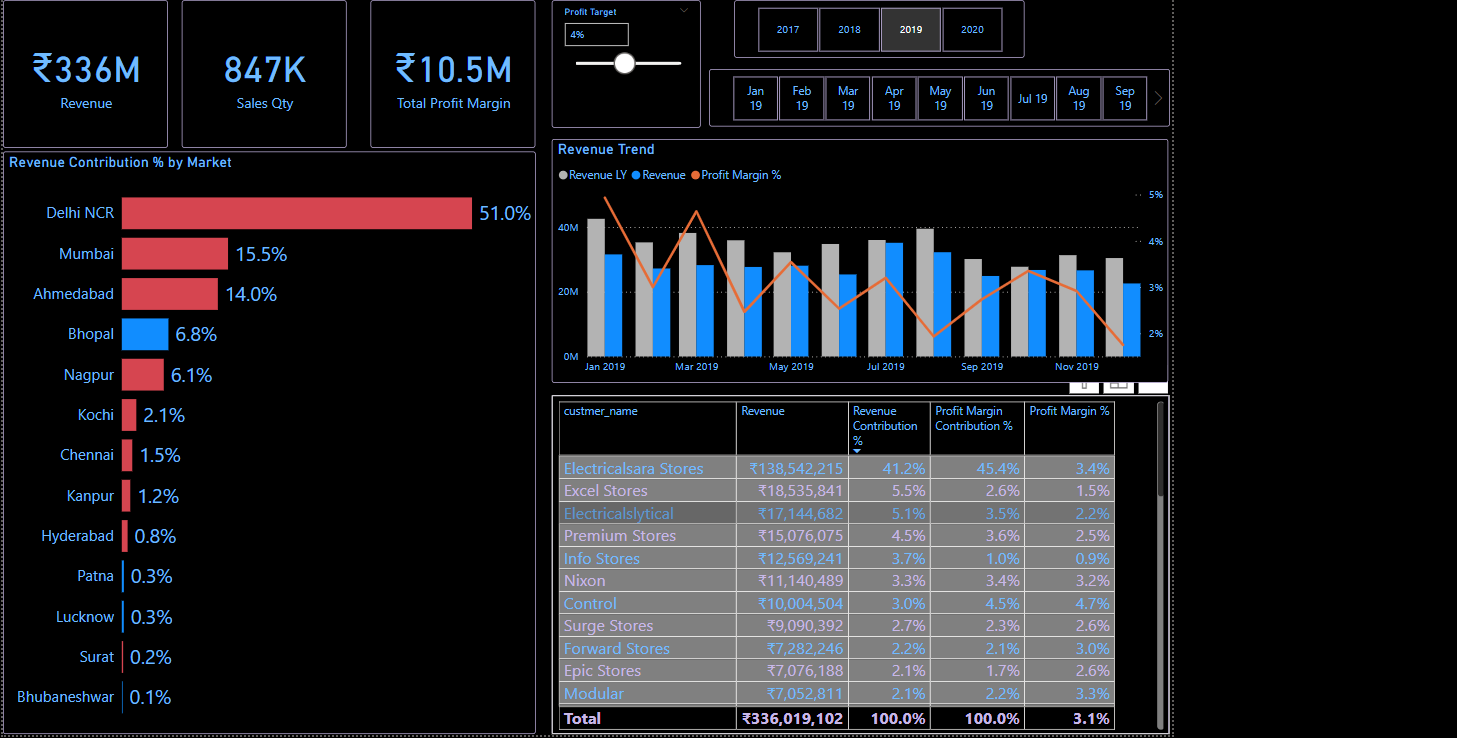

The dashboard page shown, as its layout file describes it:
{"tool":"powerbi","page":{"name":"Performance Insights","canvas":[1350,850],"ordinal":2},"visuals":[{"type":"card","fields":{"Values":["BaseMeasures (2).Revenue"]},"box":[0,2,190,170],"z":0},{"type":"card","fields":{"Values":["BaseMeasures (2).Sales Qty"]},"box":[207,2,190,170],"z":1000},{"type":"slicer","fields":{"Values":["sales date.year"]},"box":[844.4,2,335.5,66.1],"z":2000},{"type":"slicer","fields":{"Values":["sales date.cy_date"]},"box":[815,81,531.6,66.1],"z":3000},{"type":"tableEx","title":"Top 5 Customers","fields":{"Values":["sales customers.custmer_name","BaseMeasures (2).Revenue","BaseMeasures (2).Revenue Contribution %","BaseMeasures (2).Profit Margin Contribution %","BaseMeasures (2).Profit Margin %"]},"box":[633.7,457.6,713.1,391.2],"z":4000},{"type":"lineClusteredColumnComboChart","title":"Revenue Trend","fields":{"Category":["sales date.cy_date"],"Y":["BaseMeasures (2).Revenue LY","BaseMeasures (2).Revenue"],"Y2":["BaseMeasures (2).Profit Margin %"]},"box":[633.7,161.7,711.7,281.5],"z":5000},{"type":"card","fields":{"Values":["BaseMeasures (2).Total Profit Margin"]},"box":[424.4,2,190,170],"z":6000},{"type":"barChart","title":"Revenue Contribution % by Market","fields":{"Y":["BaseMeasures (2).Revenue Contribution %"],"Category":["sales markets.zone","sales markets.markets_name","sales customers.custmer_name","sales products.product_code"]},"box":[0,176.1,615,672.7],"z":7000},{"type":"slicer","fields":{"Values":["Profit Target.Profit Target"]},"box":[633.4,2,172,147],"z":8000}]}

Visuals, with their boxes on the page's 1350x850 design canvas (x1, y1, x2, y2). These are canvas units, not pixel positions in the 1457x738 screenshot, which may show the page scaled, cropped or inside an application window:
card - BaseMeasures (2).Revenue: <bbox>0, 2, 190, 172</bbox>
card - BaseMeasures (2).Sales Qty: <bbox>207, 2, 397, 172</bbox>
slicer - sales date.year: <bbox>844, 2, 1180, 68</bbox>
slicer - sales date.cy_date: <bbox>815, 81, 1347, 147</bbox>
"Top 5 Customers" tableEx: <bbox>634, 458, 1347, 849</bbox>
"Revenue Trend" lineClusteredColumnComboChart: <bbox>634, 162, 1345, 443</bbox>
card - BaseMeasures (2).Total Profit Margin: <bbox>424, 2, 614, 172</bbox>
"Revenue Contribution % by Market" barChart: <bbox>0, 176, 615, 849</bbox>
slicer - Profit Target.Profit Target: <bbox>633, 2, 805, 149</bbox>
